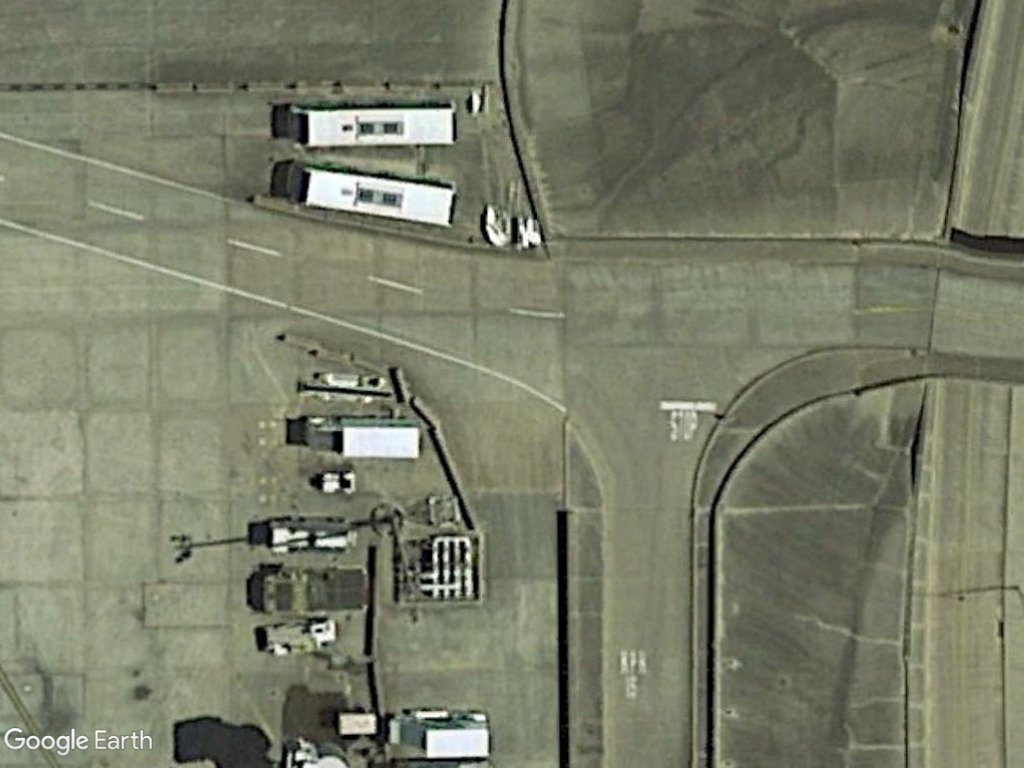bus: (277, 160, 459, 233), (277, 96, 461, 154)
